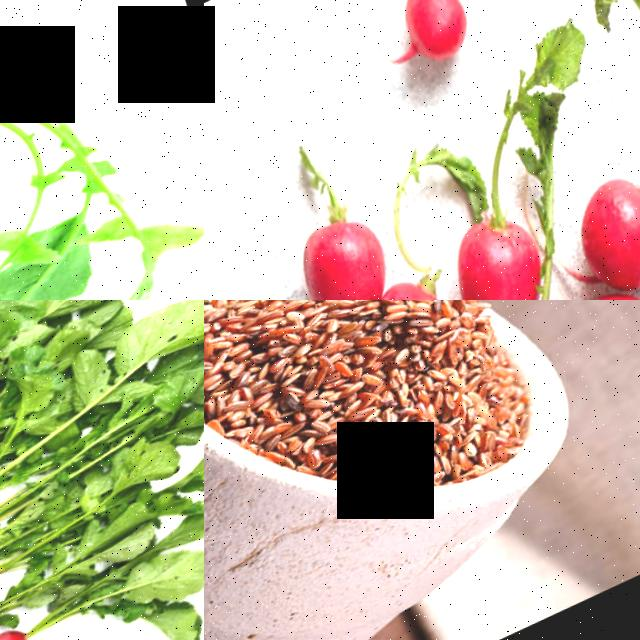radishes: (0, 571, 93, 640)
red rice: (204, 300, 552, 573)
spinach: (437, 175, 575, 300), (285, 186, 413, 300), (553, 153, 640, 300), (384, 0, 509, 87)
